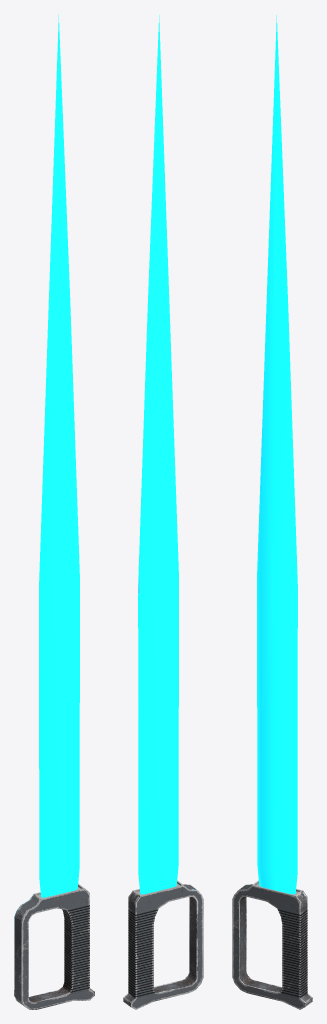
File: MainSword 1.fbx
The picture shows the model from 3 angles, left to right: view 1: azimuth 30°, elevation 25°; view 2: azimuth 210°, elevation 25°; view 3: azimuth 330°, elevation 25°; orthographic projection.
Parts seen in each view (by area): view 1: MainSword; view 2: MainSword; view 3: MainSword.
Boxes of the visible parts, x1,y1,x2,y2 form: MainSword: (14, 14, 94, 1009); MainSword: (123, 15, 203, 1009); MainSword: (232, 15, 312, 1009).
Size of the model in its own units: 183 by 2375 by 32.87.
Materials: 1 (1 with a texture image).
